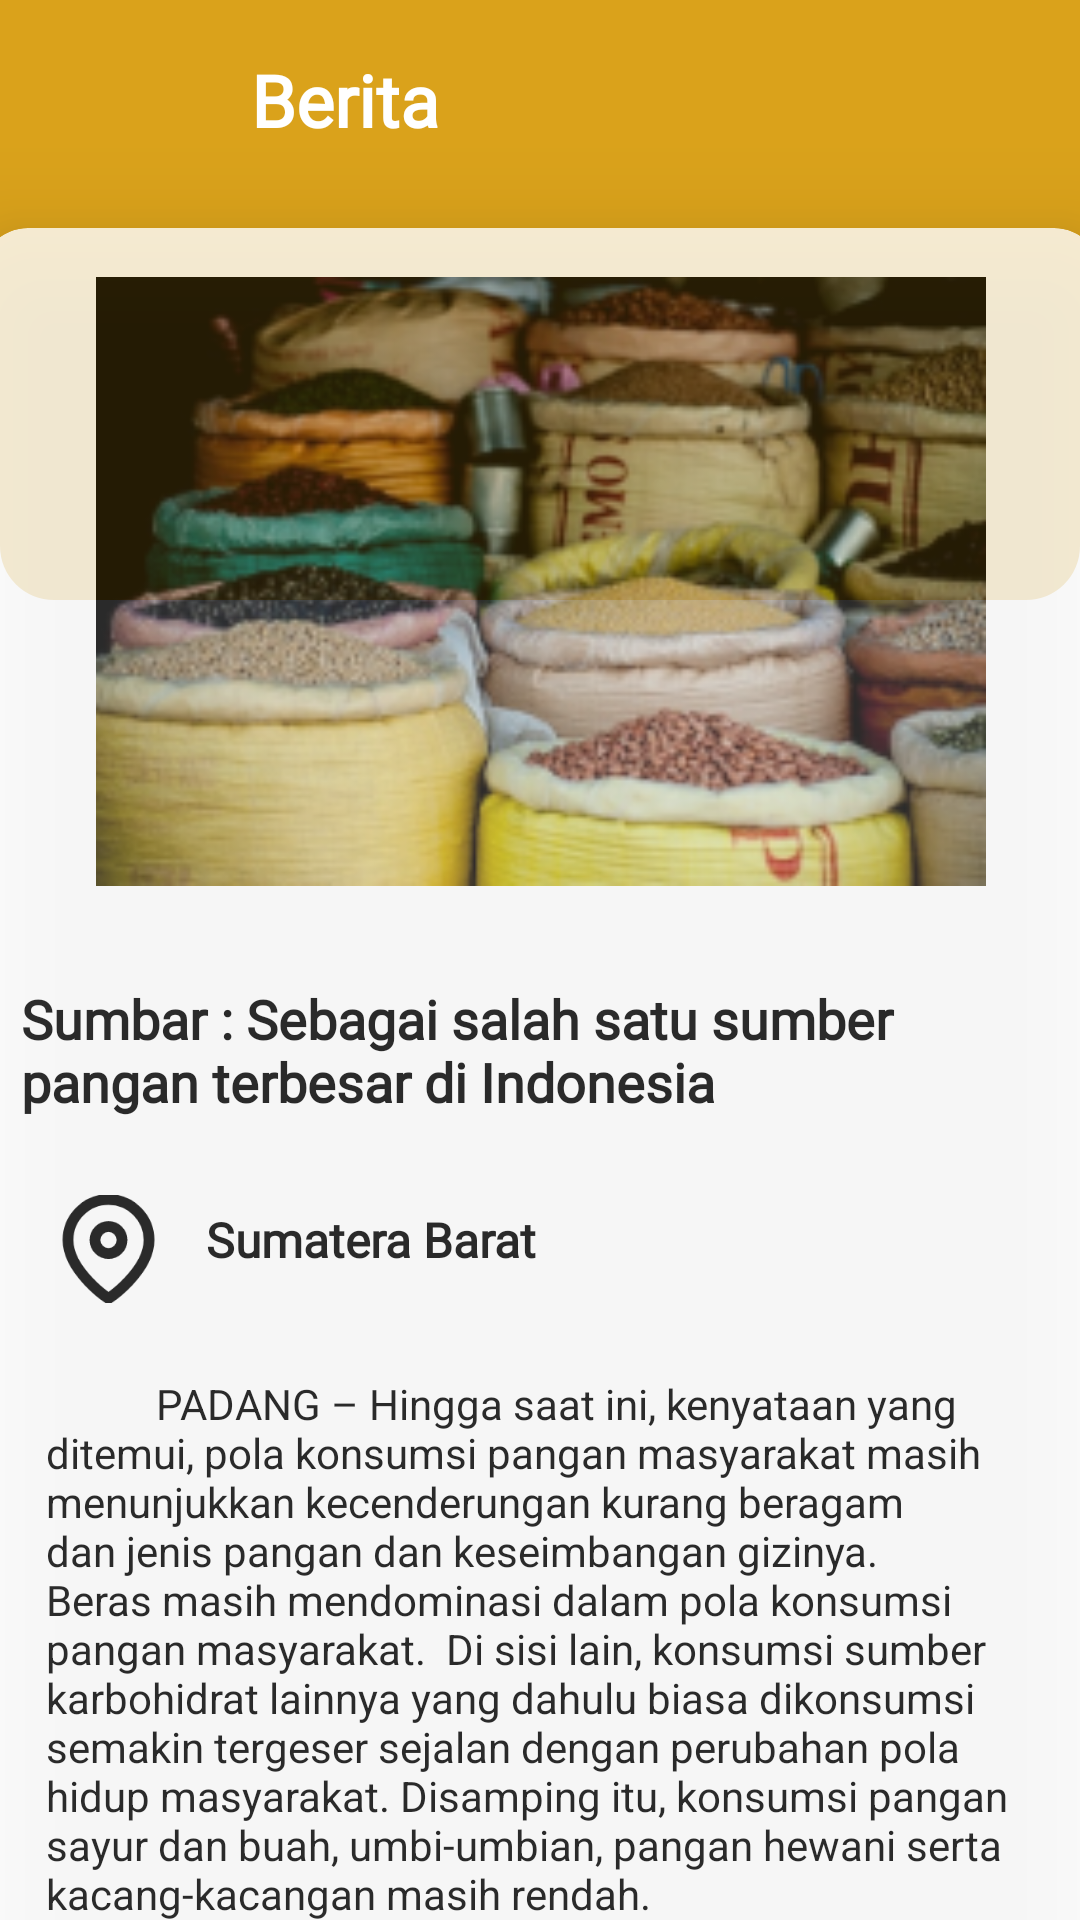

Icons on this 1080x1920 Android screen, each with the point to tap as [x,y]:
map pin: [108,1249]
